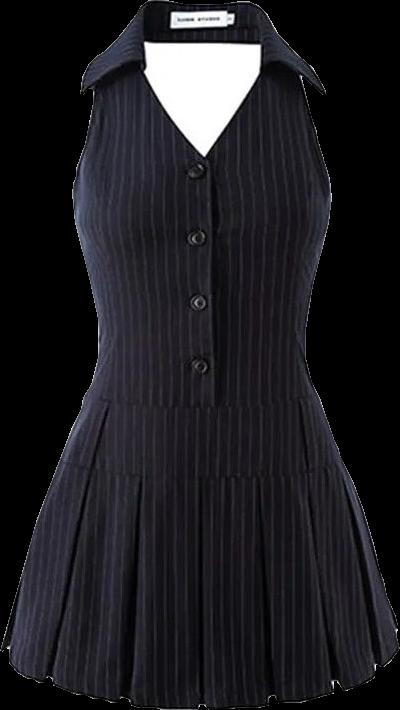Bodice: (72, 1, 331, 412)
Hemline: (0, 642, 399, 709)
Neckline: (135, 1, 268, 159)
Skirt: (0, 391, 398, 709)
Waistline: (84, 386, 319, 420), (59, 455, 343, 482)
